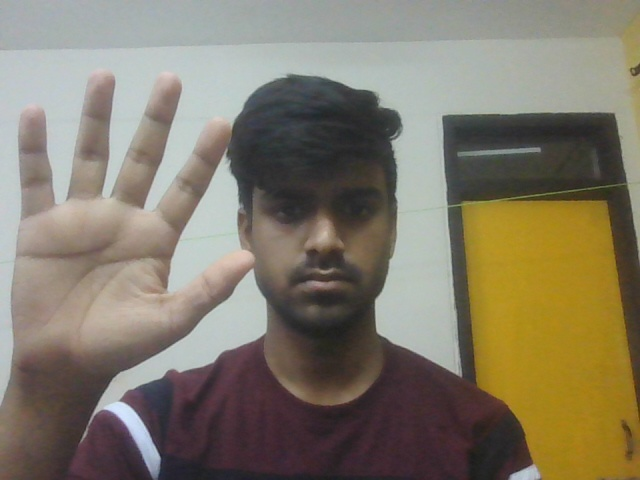hello: (11, 68, 260, 386)
